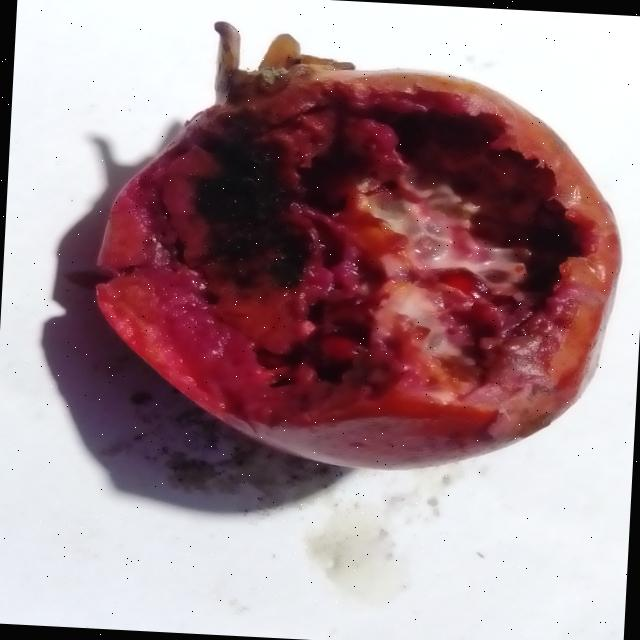Rotten: (80, 15, 639, 488)
